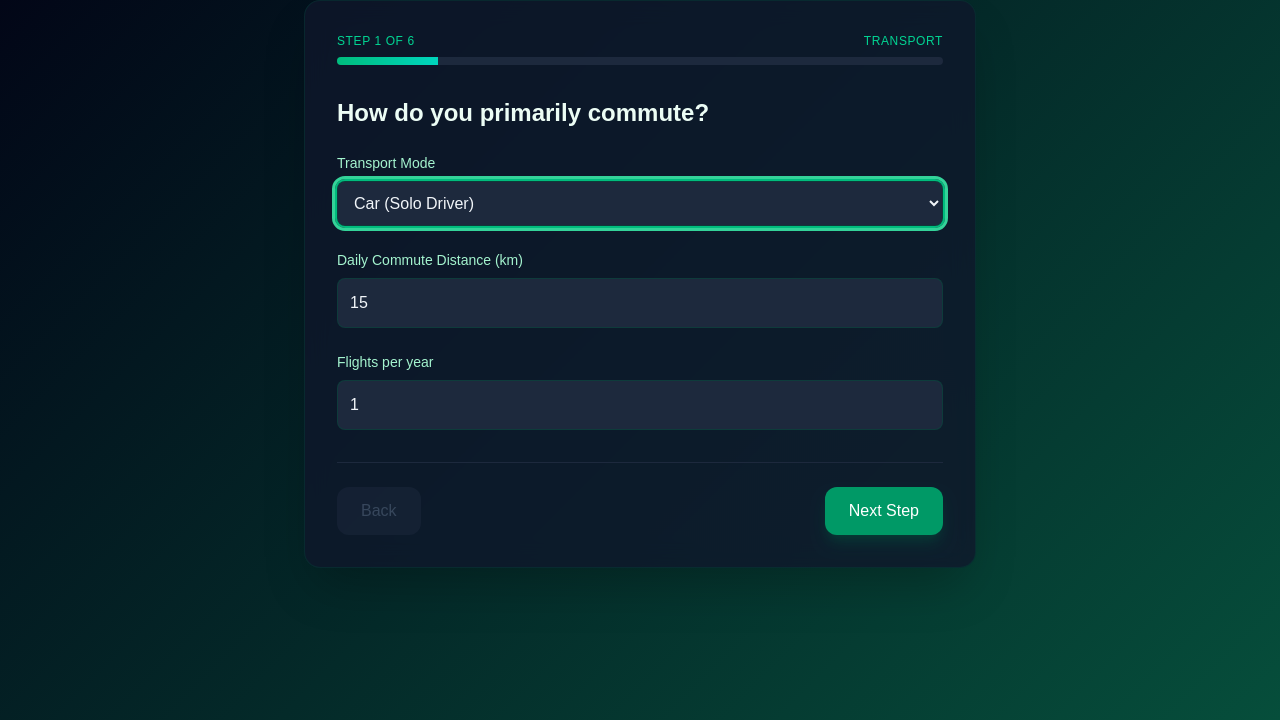
Test: OnboardingWizard Component › Next button advances step
Click the button with aria-label "Go to next step".
click(884, 511)  # box left=825, top=487, right=943, bottom=535
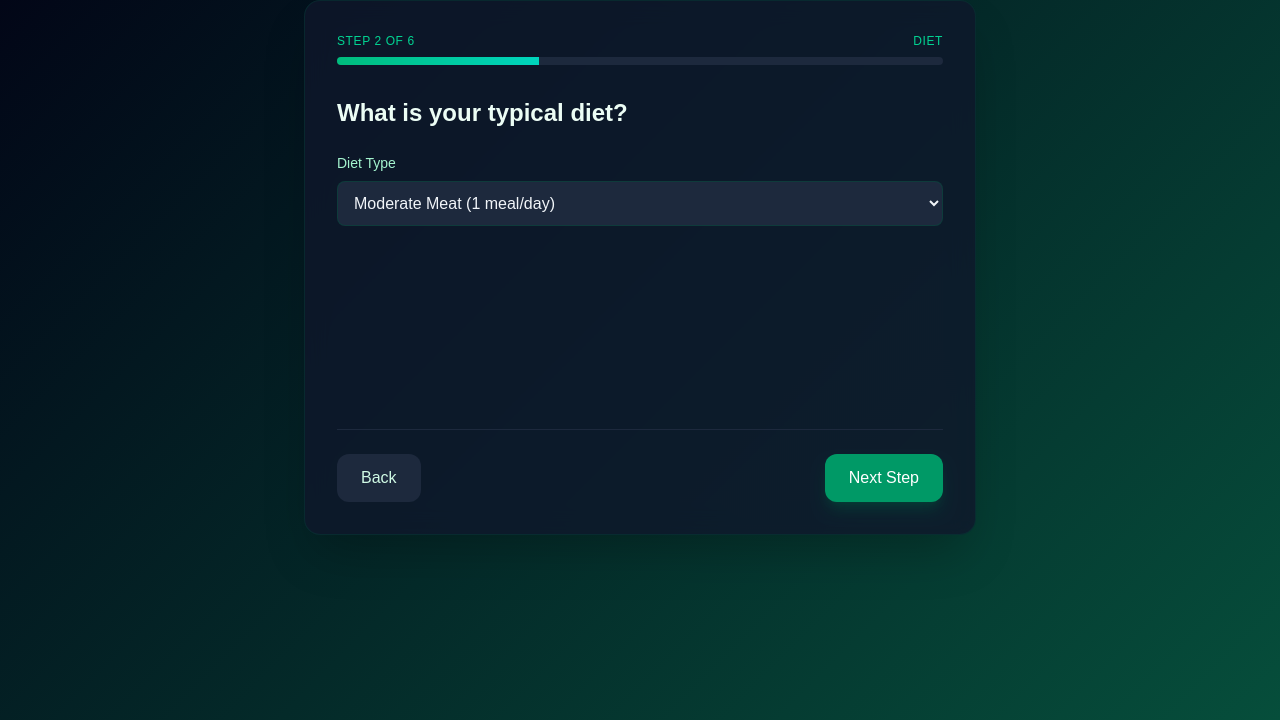
Expected: the heading "What is your typical diet?" is shown, left=337, top=99, right=628, bottom=126
